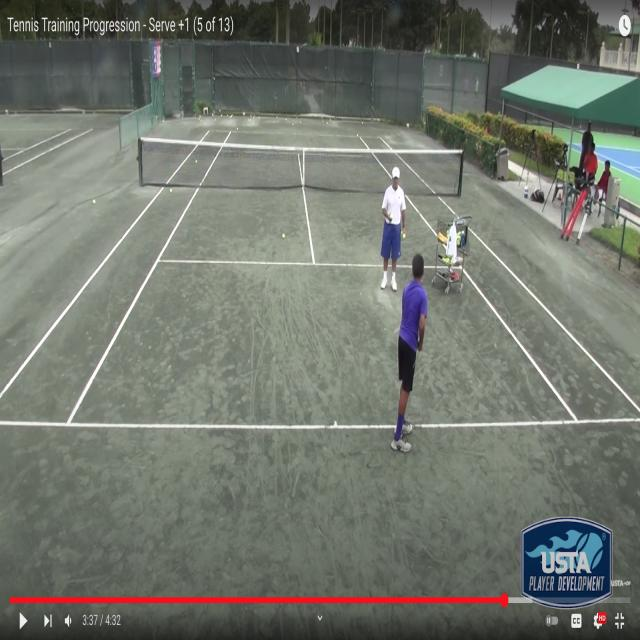ball: (92, 199, 96, 205), (402, 234, 406, 240), (282, 233, 285, 239), (276, 115, 279, 120), (356, 133, 359, 138), (211, 112, 214, 116), (249, 118, 252, 122), (253, 114, 255, 120), (361, 121, 364, 125), (170, 188, 172, 193), (195, 160, 198, 163), (214, 119, 217, 122), (226, 114, 229, 117), (236, 127, 238, 131), (258, 116, 260, 120), (250, 114, 252, 118), (220, 114, 222, 118), (219, 109, 221, 113), (229, 115, 231, 119), (231, 114, 233, 118), (248, 118, 250, 122), (326, 121, 328, 125), (292, 123, 294, 126), (285, 118, 287, 121), (200, 119, 202, 122), (198, 118, 200, 121), (199, 115, 201, 118), (230, 115, 232, 118), (329, 118, 331, 121), (300, 120, 301, 124), (322, 120, 324, 122)
